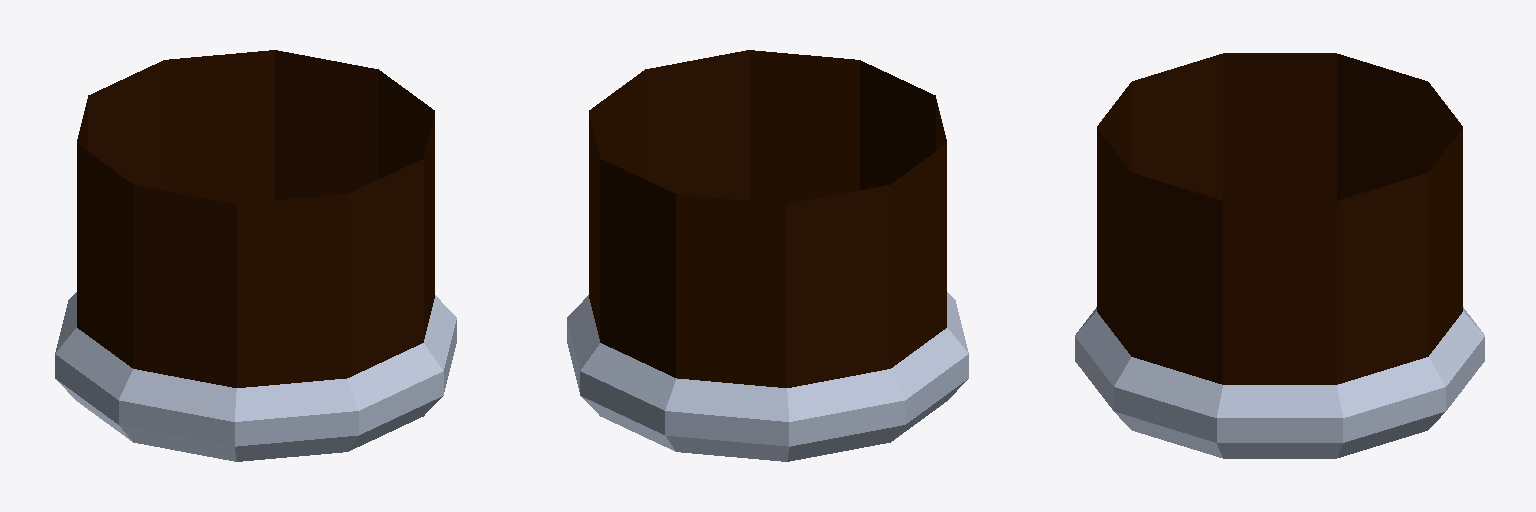
The picture shows the model from 3 angles: view 1: azimuth 30°, elevation 25°; view 2: azimuth 150°, elevation 25°; view 3: azimuth 270°, elevation 25°; orthographic projection.
Visible parts, largest first — view 1: Mesh1 drum_bottom1 drum_bottom_1_1 Model; view 2: Mesh1 drum_bottom1 drum_bottom_1_1 Model; view 3: Mesh1 drum_bottom1 drum_bottom_1_1 Model.
Boxes of the visible parts, x1,y1,x2,y2 form: Mesh1 drum_bottom1 drum_bottom_1_1 Model: [55, 50, 456, 461]; Mesh1 drum_bottom1 drum_bottom_1_1 Model: [567, 50, 968, 461]; Mesh1 drum_bottom1 drum_bottom_1_1 Model: [1075, 53, 1484, 458].
Bounding box in the file's own units: 0.4326 × 0.315 × 0.4548.
Materials: 2 (1 with a texture image).